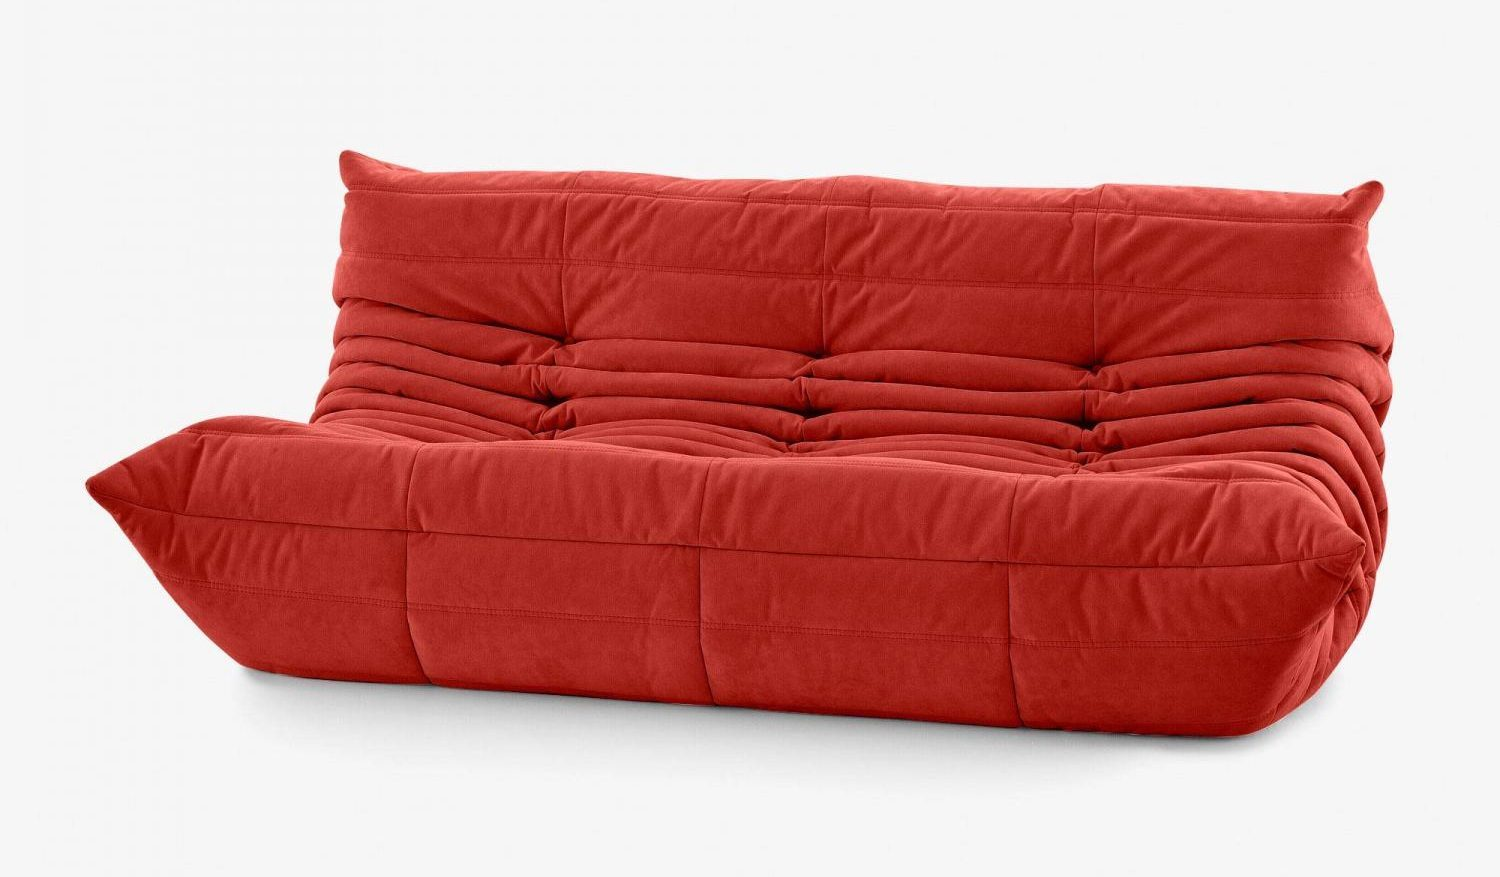sova: (98, 150, 1392, 739)
